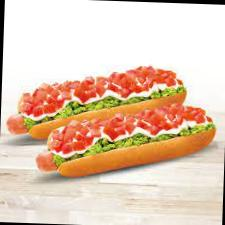Completos: (3, 54, 196, 144), (39, 99, 220, 190)
